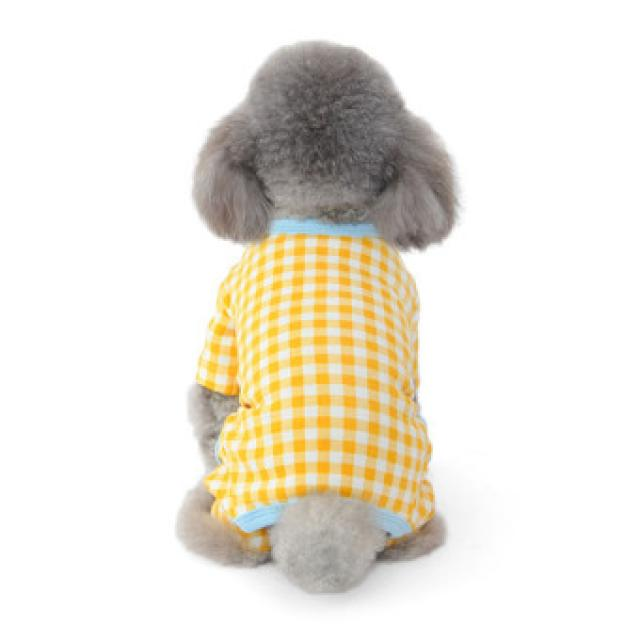cloth: (196, 221, 434, 549)
